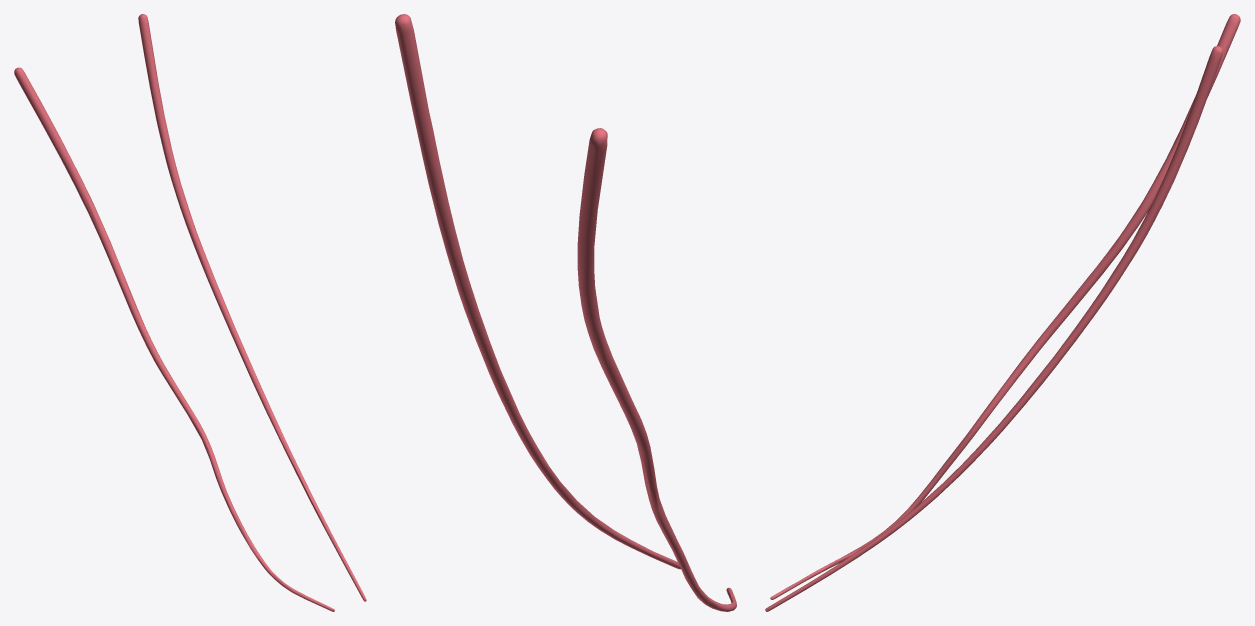
Rendered from fma85099_cx249.glb.
3 views of the same model, side by side, from view 1: azimuth 30°, elevation 25°; view 2: azimuth 150°, elevation 25°; view 3: azimuth 270°, elevation 25° (orthographic). The views are drawn at different scales.
Parts seen in each view (by area): view 1: FMA85099_CX249; view 2: FMA85099_CX249; view 3: FMA85099_CX249.
Boxes of the visible parts, <box> form: FMA85099_CX249: <box>14,14,366,611</box>; FMA85099_CX249: <box>395,14,736,611</box>; FMA85099_CX249: <box>765,14,1240,611</box>.
Bounding box in the file's own units: 0.0244 × 0.0692 × 0.0541.
